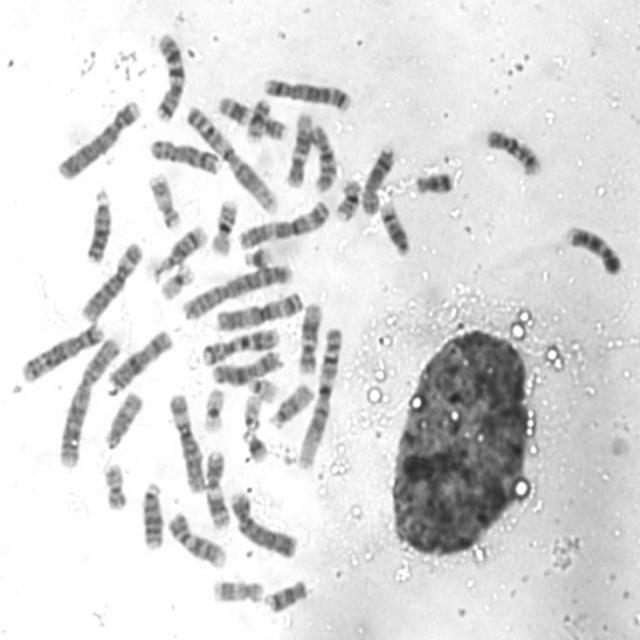A1: (185, 105, 279, 214), (296, 326, 344, 472)
A2: (60, 336, 120, 467), (181, 264, 294, 322)
A3: (238, 200, 329, 250), (216, 290, 304, 332)
B4: (57, 99, 142, 179), (228, 490, 298, 559)
B5: (21, 322, 106, 383), (262, 77, 351, 113)
C10: (484, 128, 542, 178), (309, 124, 337, 193)
C11: (218, 96, 288, 142), (204, 449, 230, 530)
C12: (286, 113, 312, 189), (297, 301, 323, 376)
C6: (81, 242, 145, 321), (169, 392, 205, 496)
C7: (201, 328, 281, 366), (155, 33, 186, 123)
C8: (149, 139, 223, 175), (361, 146, 394, 217)
C9: (167, 511, 226, 568), (566, 224, 622, 275)
D13: (86, 190, 112, 264), (140, 481, 165, 549)
D14: (152, 224, 208, 284), (379, 202, 411, 256)
D15: (103, 391, 144, 452), (268, 381, 316, 429)
E16: (209, 199, 239, 256), (334, 178, 362, 224)
E17: (148, 172, 182, 230), (212, 579, 266, 605)
E18: (265, 579, 308, 612), (415, 171, 453, 195)
F19: (160, 265, 196, 301), (203, 387, 226, 435)
F20: (246, 98, 272, 144), (103, 464, 127, 511)
G21: (241, 428, 268, 465), (243, 246, 275, 268)
G22: (247, 377, 279, 404), (243, 394, 263, 430)
X: (106, 329, 173, 397), (212, 350, 286, 386)
